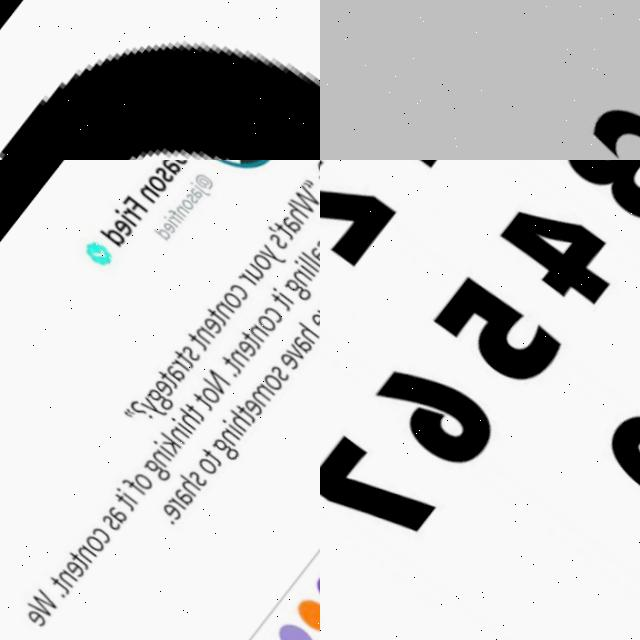0: (588, 382, 640, 530)
3: (532, 160, 640, 242)
4: (477, 165, 640, 325)
5: (416, 253, 591, 406)
6: (352, 331, 525, 484)
7: (320, 419, 462, 570)
A: (176, 481, 204, 505), (292, 327, 318, 350), (166, 359, 193, 381), (280, 209, 306, 231), (112, 501, 137, 523), (159, 160, 184, 173), (188, 181, 207, 198), (309, 238, 320, 260)
C: (230, 276, 255, 298), (96, 522, 120, 543), (266, 299, 289, 319)
D: (100, 220, 129, 246), (155, 221, 175, 239)
E: (156, 373, 182, 396), (113, 214, 139, 237), (166, 497, 193, 519), (246, 391, 271, 414), (239, 333, 264, 355), (281, 346, 306, 368), (204, 312, 228, 333), (32, 605, 56, 626), (70, 556, 94, 577), (310, 304, 320, 328), (163, 217, 180, 231)
F: (123, 191, 151, 216), (125, 472, 154, 495), (169, 204, 188, 219)
G: (214, 431, 248, 459), (149, 381, 182, 409), (285, 271, 317, 298), (147, 453, 179, 480)
H: (178, 403, 207, 428), (228, 404, 257, 428), (179, 469, 208, 493), (283, 197, 311, 220), (296, 316, 320, 340)
I: (114, 205, 141, 226), (293, 253, 320, 273), (121, 482, 147, 502), (225, 413, 251, 433), (274, 281, 299, 301), (156, 435, 182, 454), (175, 413, 199, 431), (165, 212, 182, 225)
J: (190, 176, 212, 193)
K: (160, 428, 188, 452)
L: (297, 249, 320, 268), (302, 245, 320, 263)
M: (253, 377, 282, 404)
N: (206, 364, 236, 391), (138, 180, 162, 202), (155, 444, 179, 465), (251, 319, 275, 340), (232, 343, 256, 364), (216, 296, 239, 316), (198, 321, 221, 341), (64, 566, 87, 586), (82, 541, 105, 561), (293, 262, 316, 282), (224, 423, 247, 443), (174, 422, 196, 441), (177, 201, 191, 213)
O: (0, 37, 320, 160), (200, 450, 227, 474), (89, 529, 115, 552), (202, 380, 227, 403), (265, 366, 290, 389), (146, 169, 171, 192), (223, 285, 248, 307), (252, 246, 276, 268), (137, 467, 161, 489), (258, 307, 282, 329), (181, 193, 198, 208)
R: (173, 492, 195, 511), (124, 203, 145, 221), (240, 268, 261, 285), (174, 355, 194, 371), (170, 210, 184, 222)
S: (271, 358, 296, 380), (268, 227, 293, 248), (183, 339, 207, 360), (192, 464, 216, 485), (106, 510, 129, 530), (153, 161, 176, 181), (186, 188, 202, 202)
T: (273, 215, 301, 238), (73, 546, 100, 569), (160, 364, 186, 387), (189, 327, 216, 349), (194, 387, 221, 409), (205, 442, 232, 464), (118, 488, 144, 510), (238, 398, 264, 420), (174, 344, 201, 365), (270, 286, 297, 307), (54, 572, 80, 593), (187, 398, 213, 419), (223, 349, 249, 370), (208, 302, 233, 323), (243, 324, 268, 345)
U: (247, 258, 269, 277)
V: (288, 338, 312, 359)
W: (33, 585, 70, 619), (290, 178, 320, 211)
Y: (143, 392, 175, 419), (259, 238, 291, 264)
